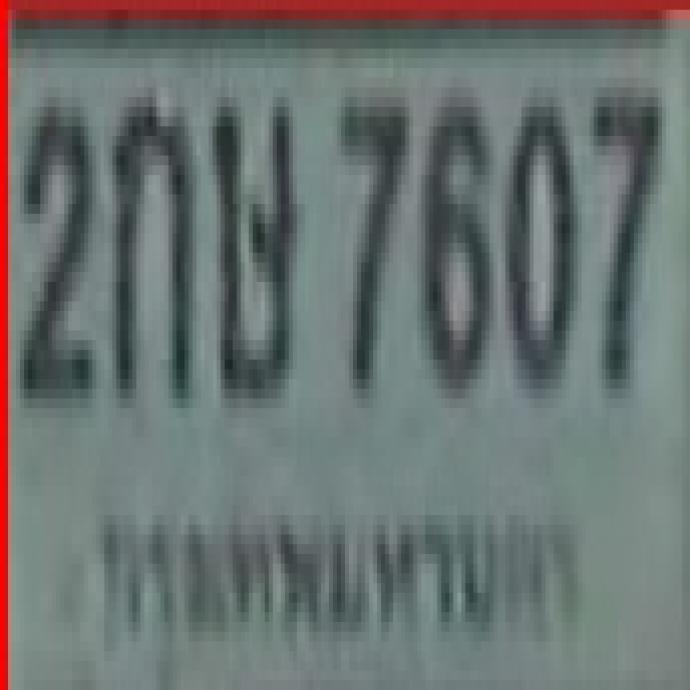0: (504, 93, 569, 381)
2: (17, 95, 88, 391)
6: (418, 89, 484, 382)
7: (589, 83, 656, 380), (335, 93, 401, 382)
A01: (108, 89, 189, 393)
A39: (209, 90, 293, 392)
